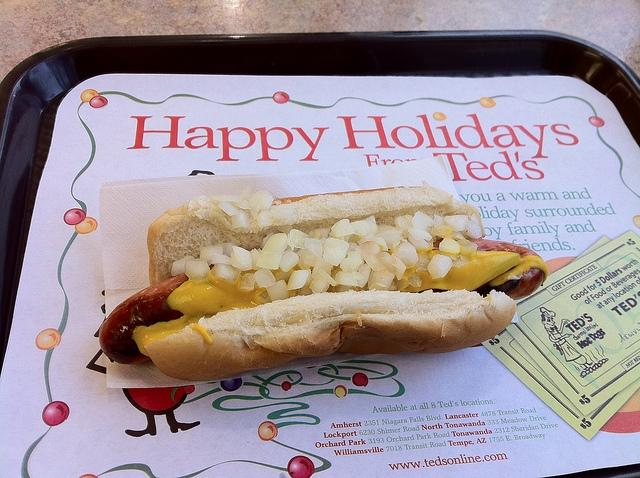onion: (392, 242, 419, 268), (428, 255, 453, 280), (184, 258, 210, 282), (198, 244, 224, 266), (262, 233, 288, 254), (211, 264, 241, 282), (266, 280, 290, 302), (256, 250, 282, 270), (462, 214, 482, 240), (374, 230, 401, 249), (230, 250, 253, 272), (232, 246, 253, 270), (171, 255, 195, 276), (340, 251, 363, 272), (322, 238, 352, 254), (250, 190, 274, 210), (330, 219, 356, 237), (312, 257, 334, 278), (286, 270, 309, 290), (253, 268, 276, 288), (288, 228, 310, 248), (279, 251, 299, 272), (323, 247, 345, 266), (364, 253, 386, 272), (334, 270, 360, 286), (444, 215, 468, 232), (360, 241, 380, 260), (309, 274, 328, 294), (304, 237, 322, 258), (357, 263, 372, 288), (376, 252, 394, 272), (256, 210, 276, 228), (439, 238, 461, 254), (318, 269, 338, 286), (364, 237, 388, 251), (408, 226, 432, 240), (232, 210, 250, 228), (364, 215, 378, 238), (415, 252, 431, 272), (412, 210, 428, 230), (350, 220, 370, 236), (408, 233, 429, 248), (218, 201, 239, 216), (456, 238, 478, 252), (209, 253, 232, 266), (240, 273, 256, 291), (250, 248, 263, 270), (308, 228, 330, 240), (222, 242, 238, 258), (304, 250, 318, 268), (378, 224, 401, 234), (408, 271, 422, 287), (395, 216, 409, 230), (433, 213, 448, 226), (233, 199, 251, 209), (368, 269, 377, 289), (423, 213, 434, 227), (350, 270, 365, 280), (348, 234, 361, 244), (425, 226, 433, 236), (256, 247, 262, 250)
